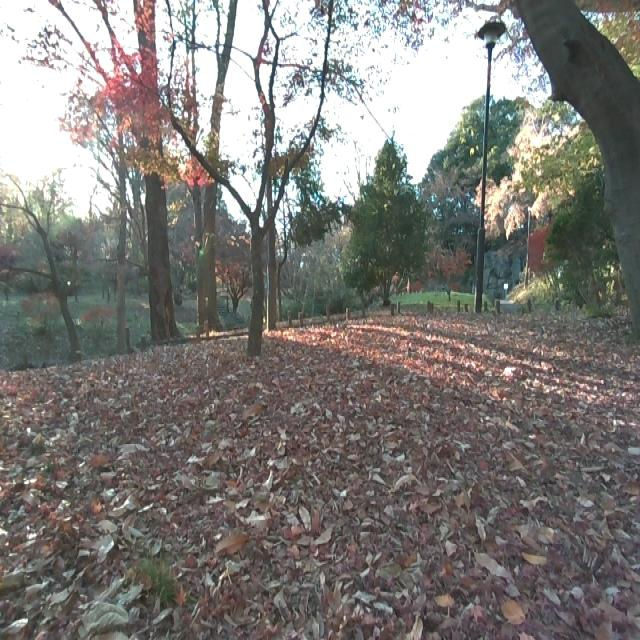artifact: (469, 17, 505, 321)
tree: (168, 0, 327, 351), (505, 0, 640, 291), (88, 0, 183, 347), (160, 0, 240, 336), (0, 188, 96, 361), (374, 283, 396, 321)
